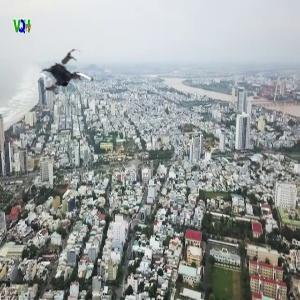drone: (36, 47, 102, 113)
